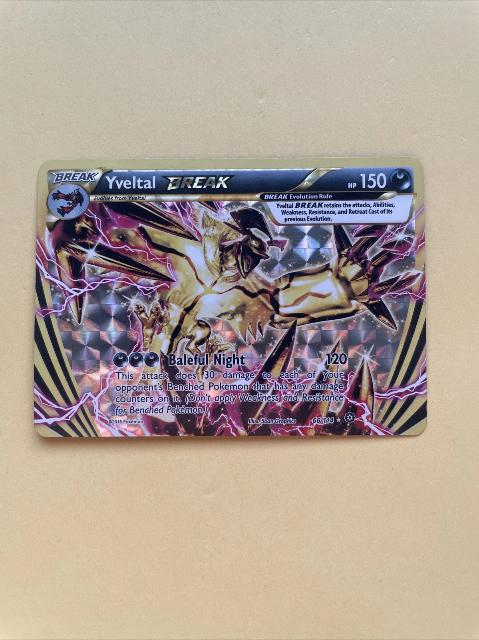Card: (34, 156, 429, 440)
Name: (102, 170, 236, 194)
